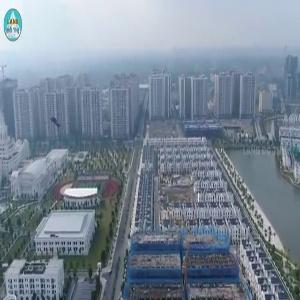drone: (41, 104, 78, 141)
